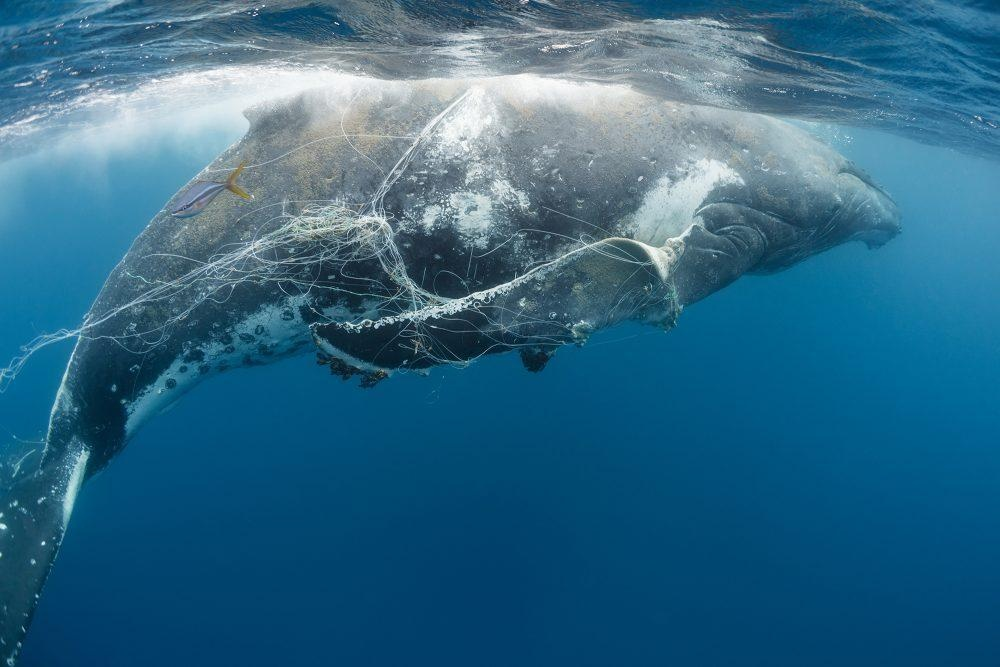fish: (3, 61, 907, 659)
